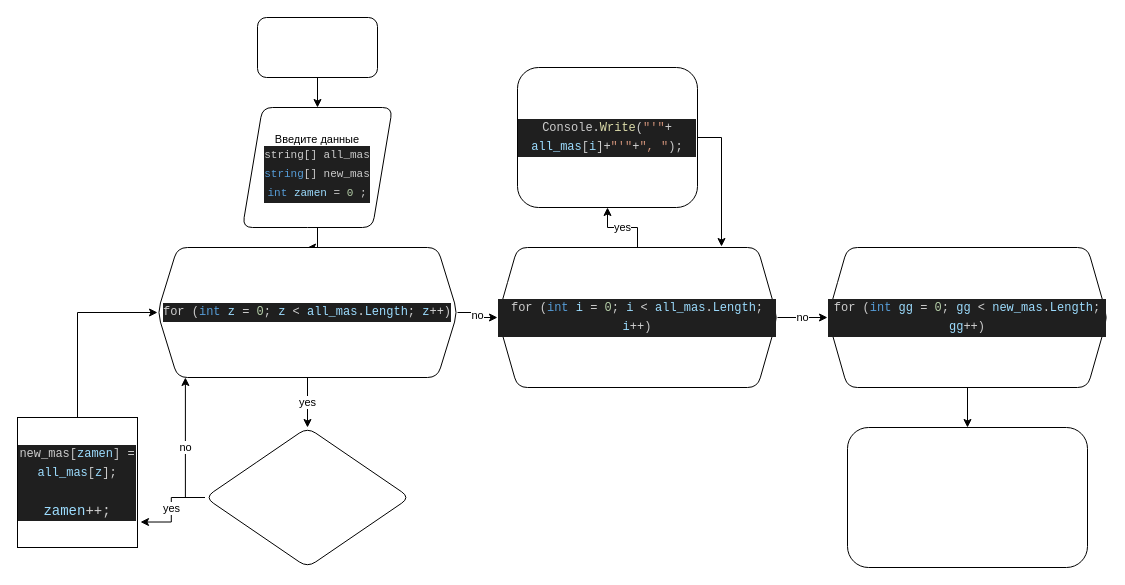
Some shapes in this 1125 by 585 pixel diagram are drawn without their labels. Here are the shapes that lost their labels. From the top down, the centre of each, then its label:
(317,47): start
(307,497): if( all_mas [ z ] . Length <= 3 )
(967,497): Console . Write ( new_mas [ gg ] + " " );
